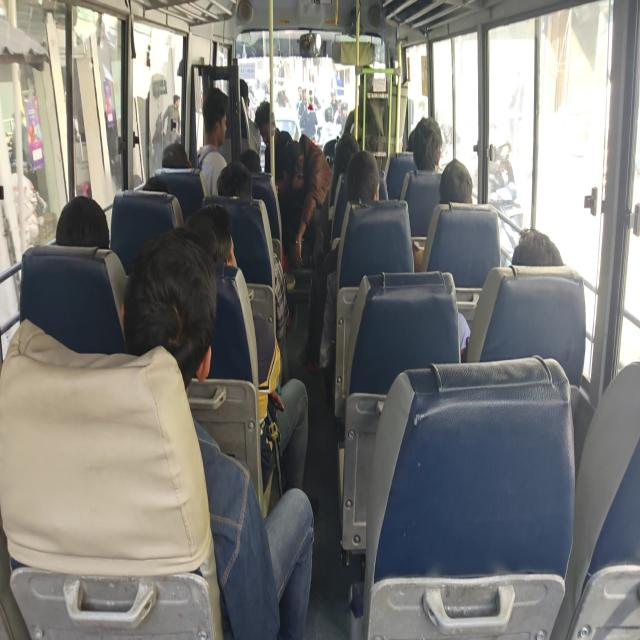person: (0, 198, 224, 638), (121, 228, 315, 638), (187, 203, 309, 494), (300, 149, 380, 372), (216, 160, 290, 384), (458, 227, 564, 361), (277, 133, 332, 269), (412, 158, 473, 271), (197, 87, 230, 197), (254, 100, 292, 184), (54, 195, 110, 249), (511, 227, 564, 267), (407, 116, 443, 171), (239, 77, 261, 157), (438, 158, 473, 204), (161, 94, 181, 141), (161, 142, 192, 169)
